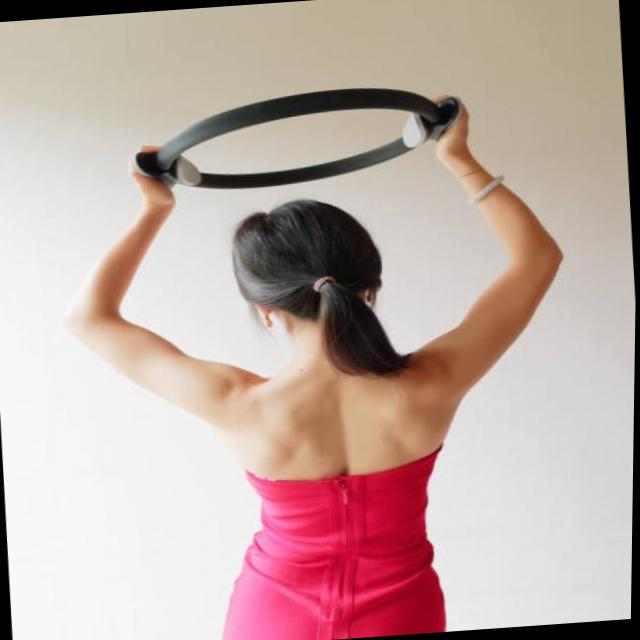no helmet: (232, 195, 395, 342)
